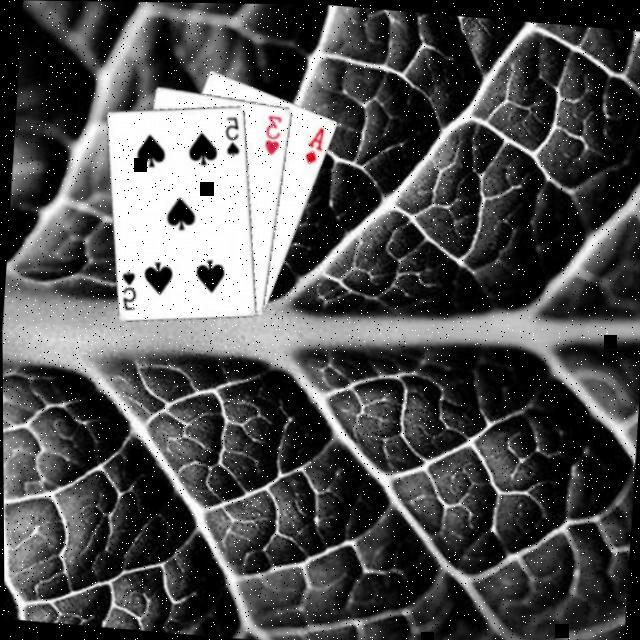3H: (262, 112, 285, 158)
5S: (221, 113, 246, 160), (116, 268, 141, 314)
AD: (302, 124, 328, 168)
